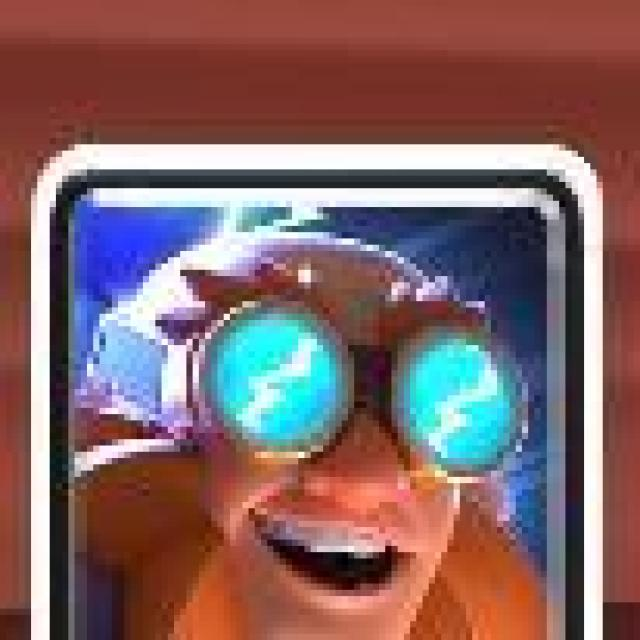Electro_Giant: (27, 145, 604, 640)
